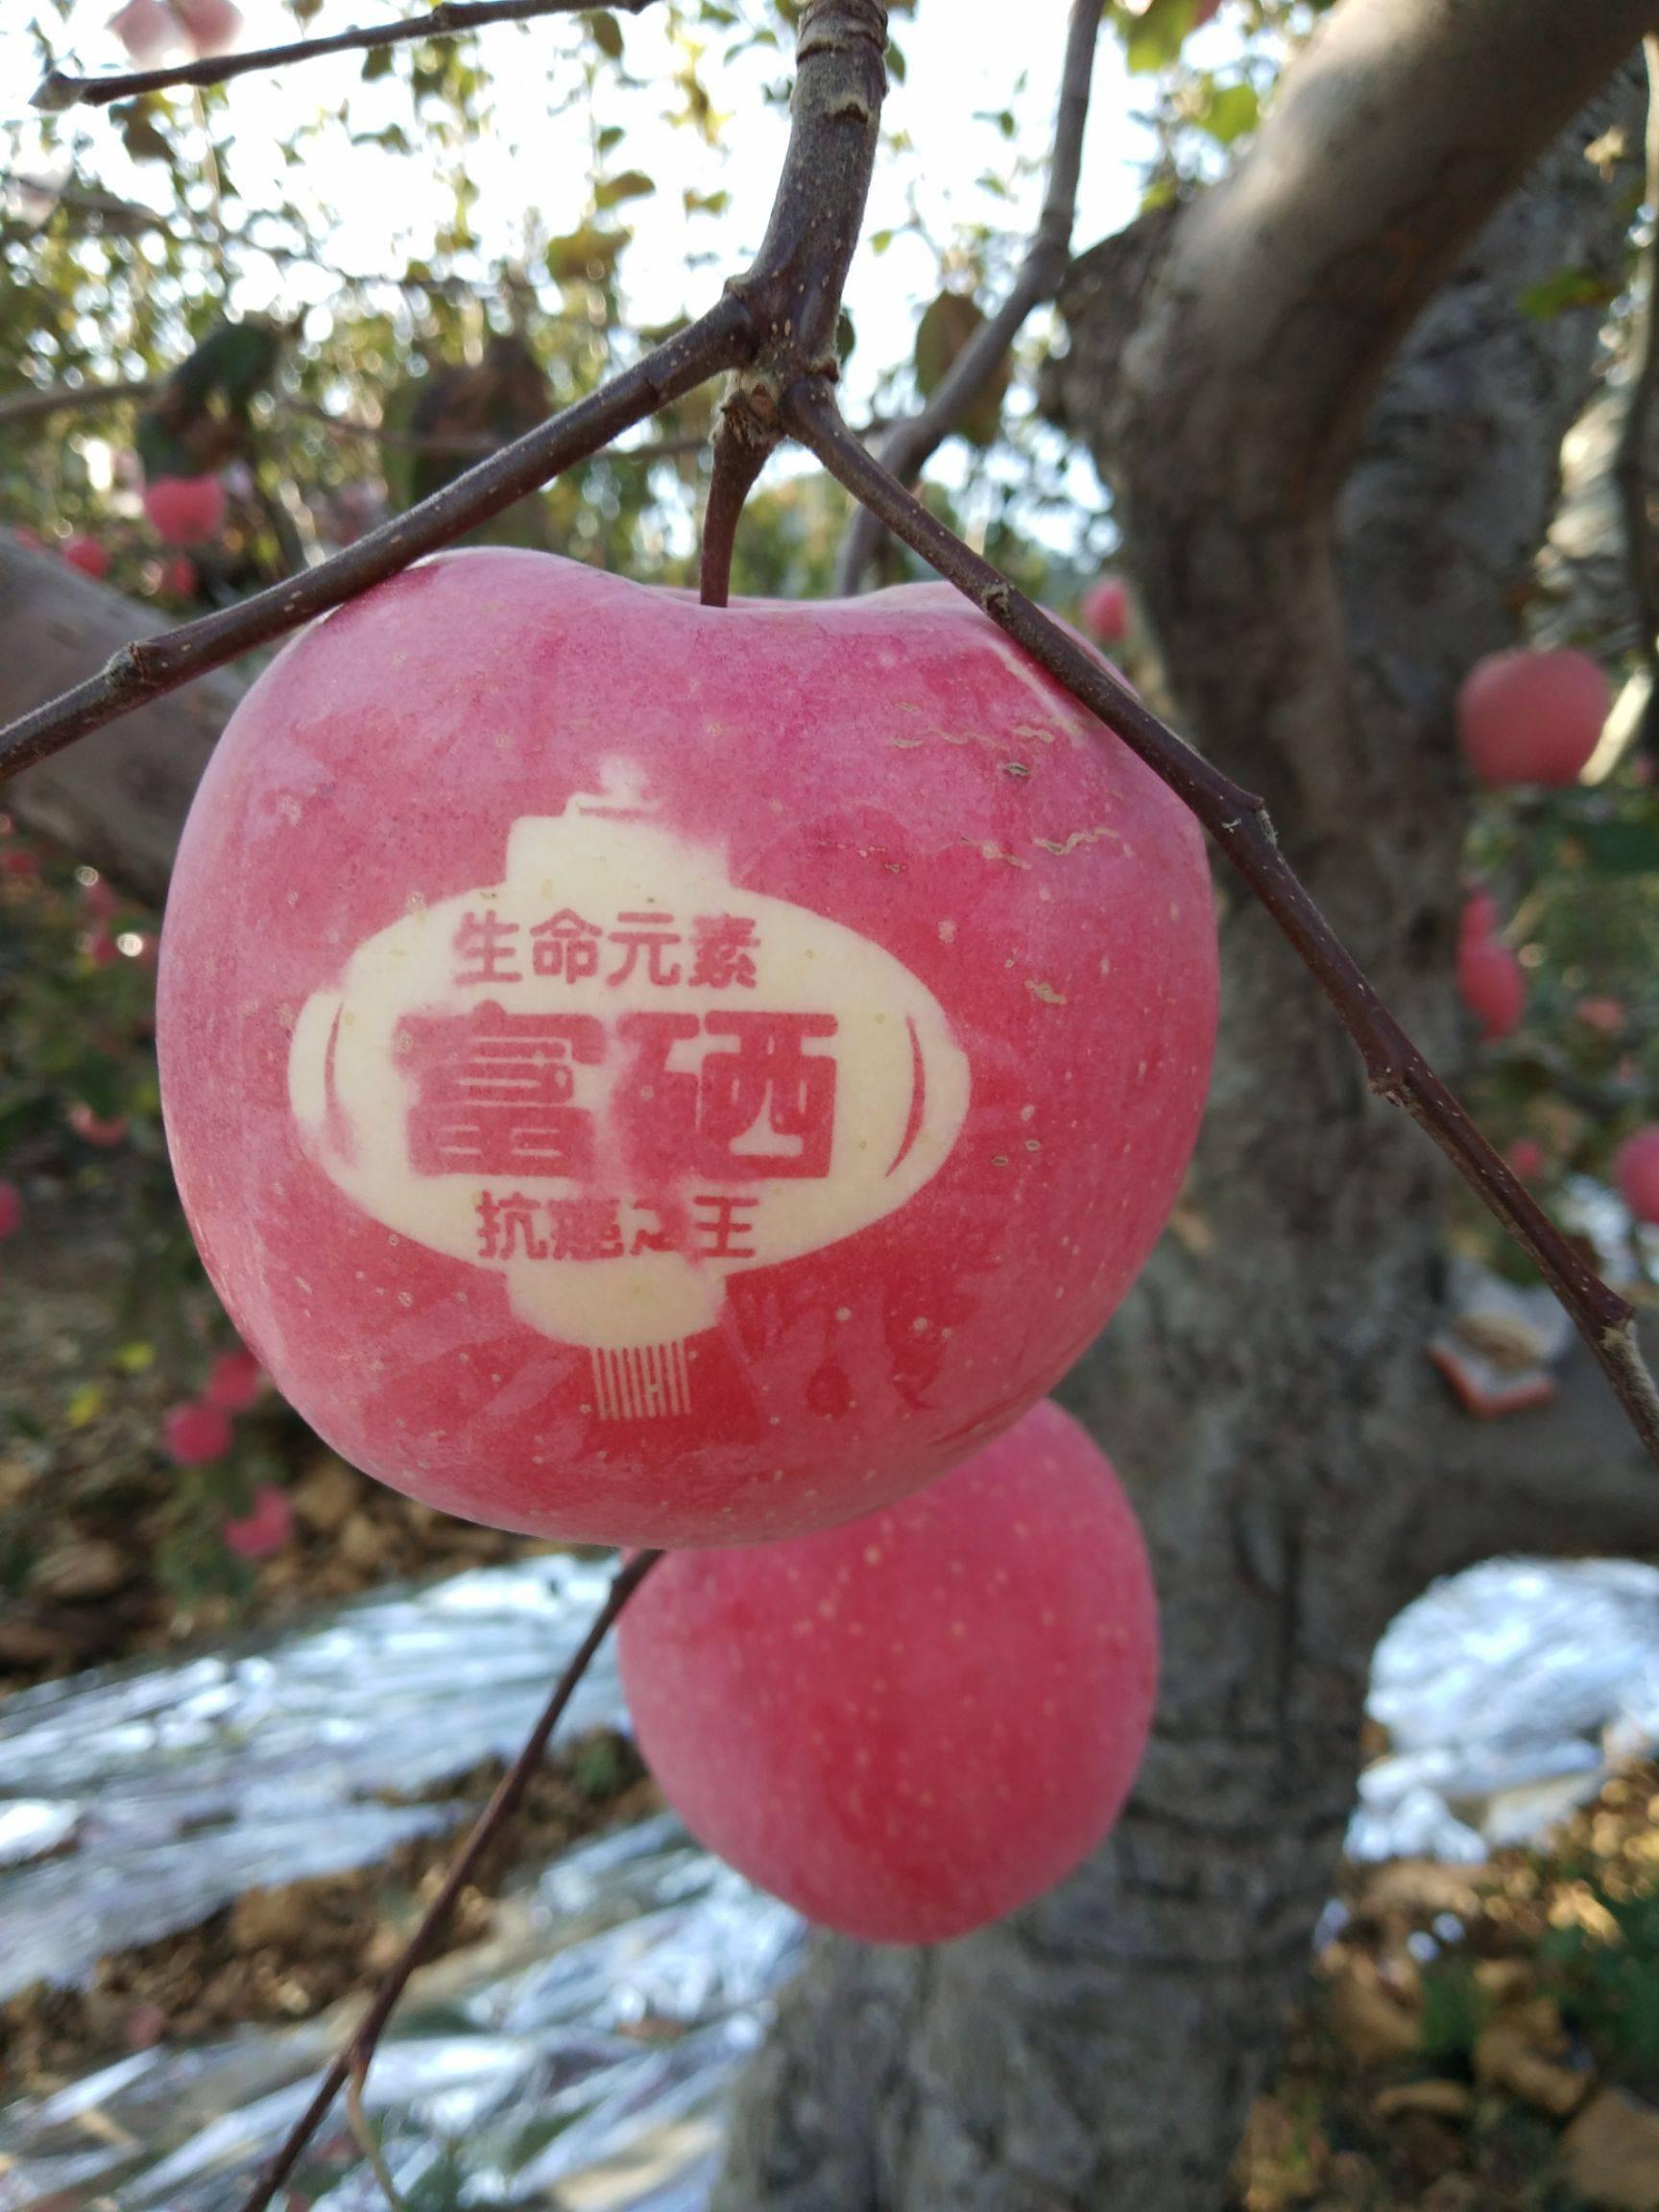apple: (139, 521, 1213, 1557), (624, 1402, 1161, 1952)
